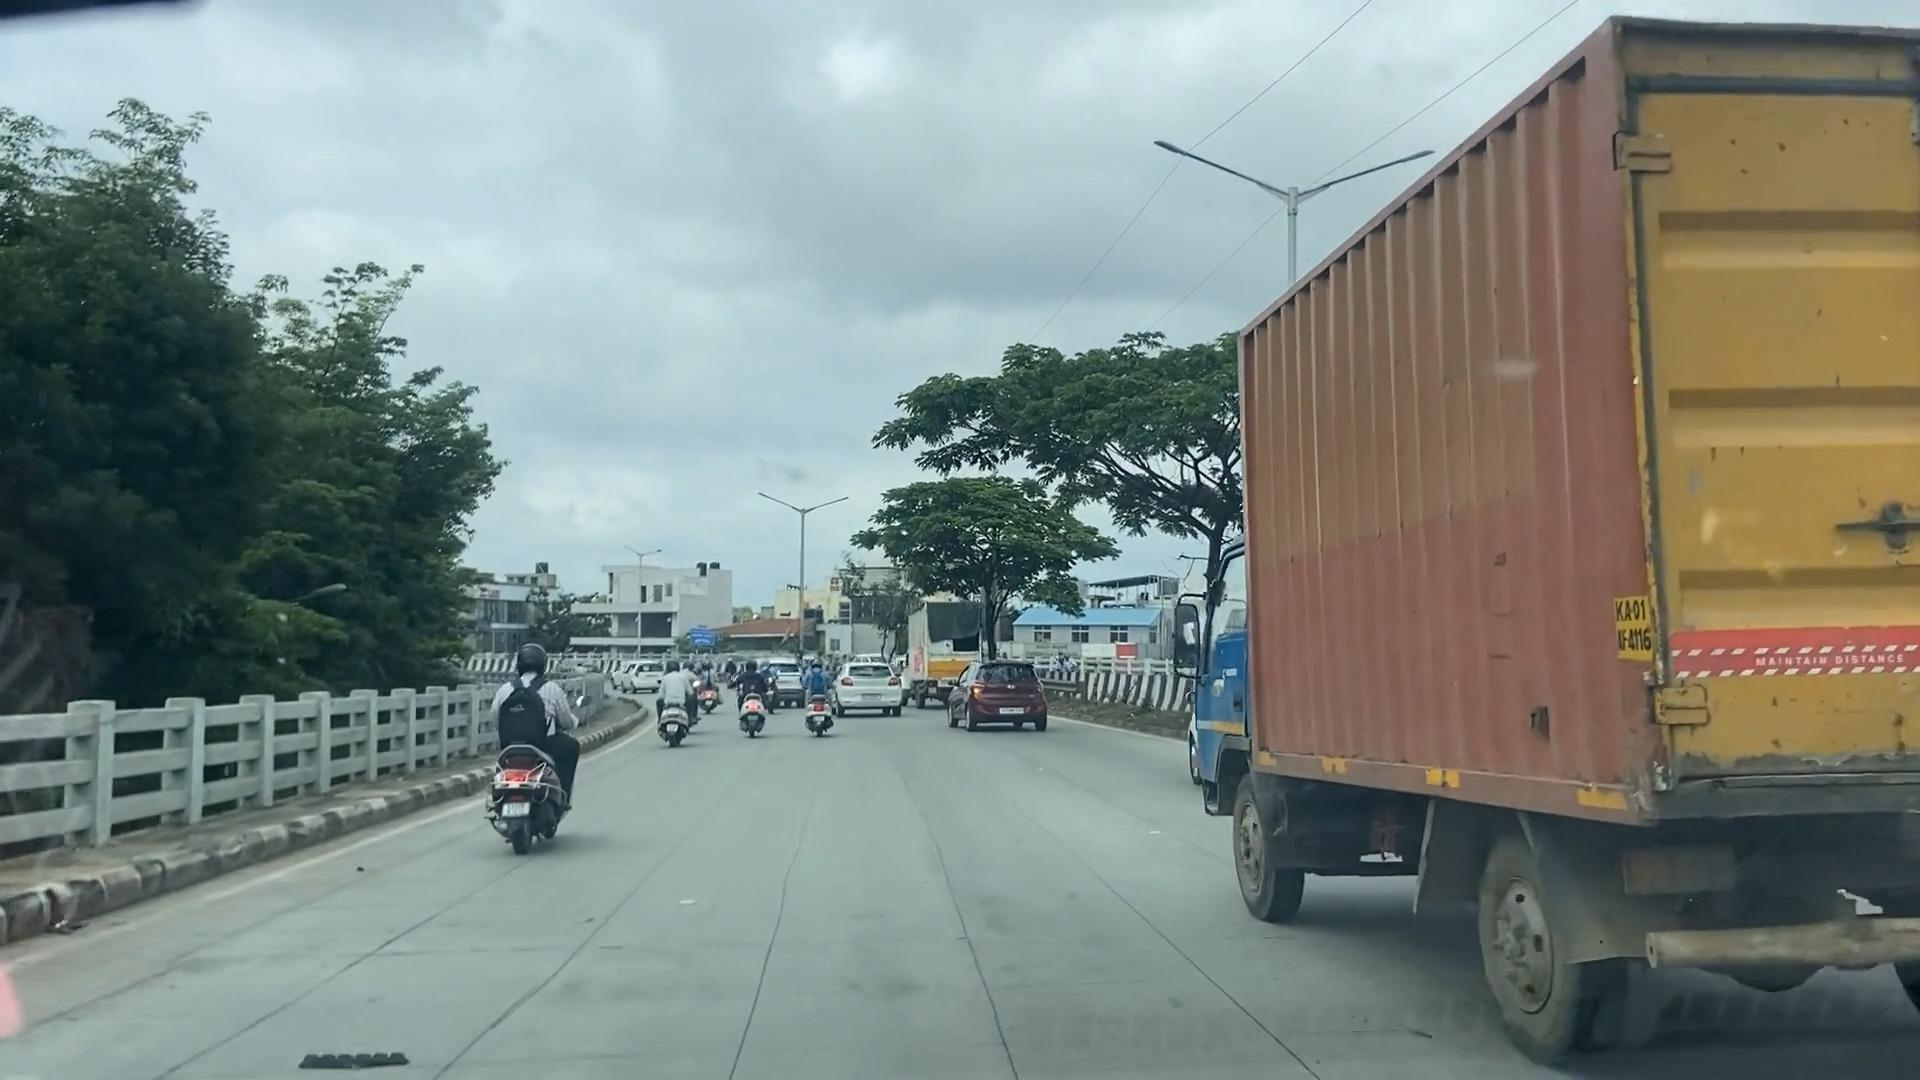LMV: (496, 624, 579, 840), (647, 650, 702, 764), (957, 659, 1039, 728), (790, 638, 832, 738), (848, 647, 894, 720), (728, 662, 769, 737)
